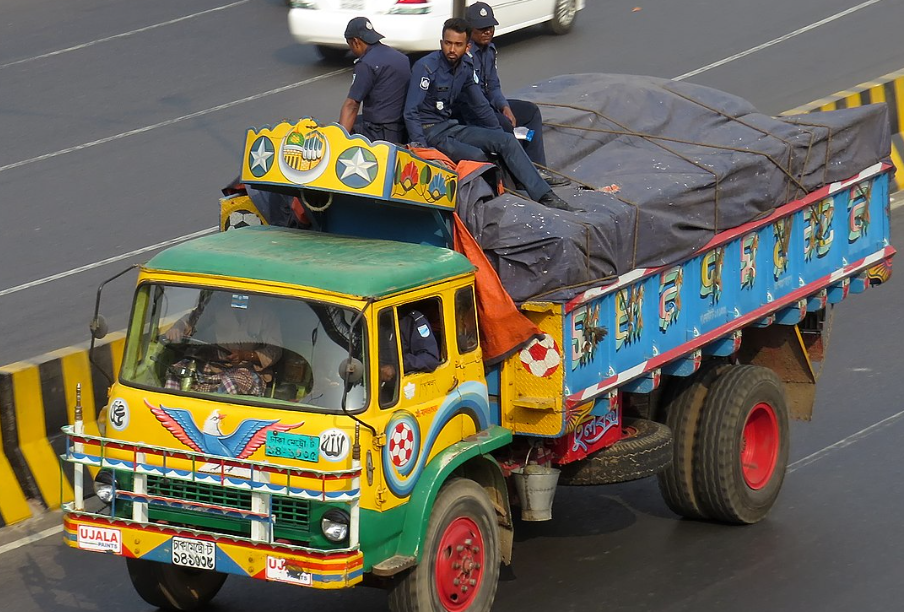Truck: (58, 62, 896, 612)
